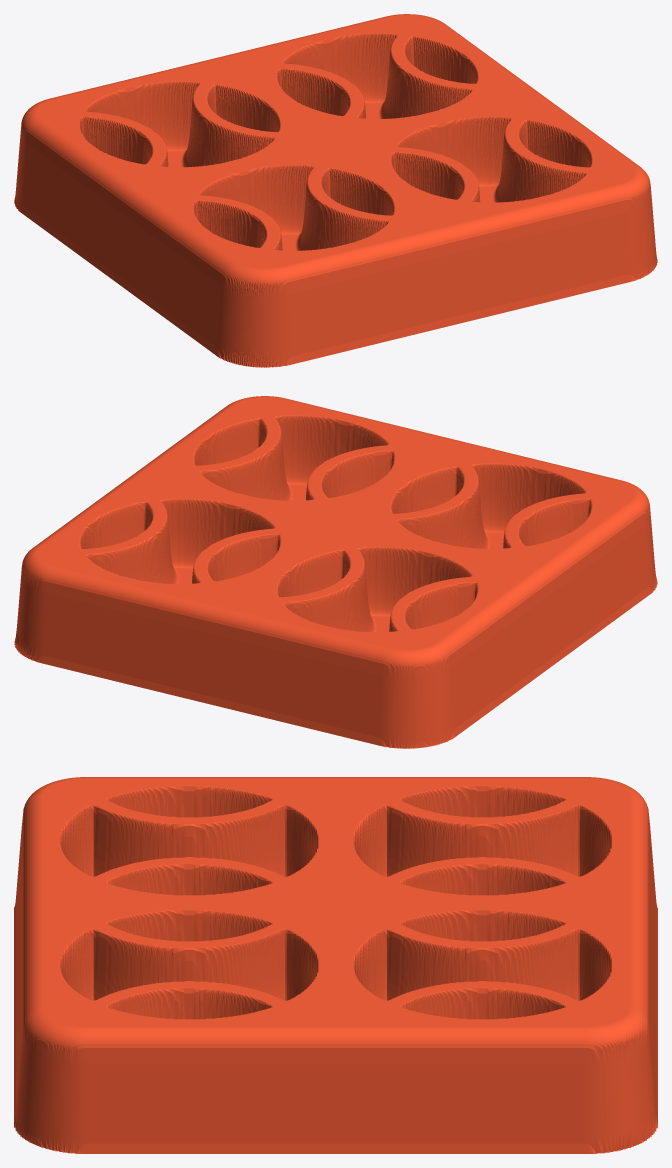
File: mold.glb
3 views of the same model, one above another, from view 1: azimuth 30°, elevation 25°; view 2: azimuth 150°, elevation 25°; view 3: azimuth 270°, elevation 25° (orthographic). The views are drawn at different scales.
Visible parts, largest first — view 1: geometry_0; view 2: geometry_0; view 3: geometry_0.
Part boxes in pixels (<box>): geometry_0: <box>14,14,657,367</box>; geometry_0: <box>14,396,657,748</box>; geometry_0: <box>14,777,657,1153</box>.
Size of the model in its own units: 0.0808 by 0.0159 by 0.0808.
